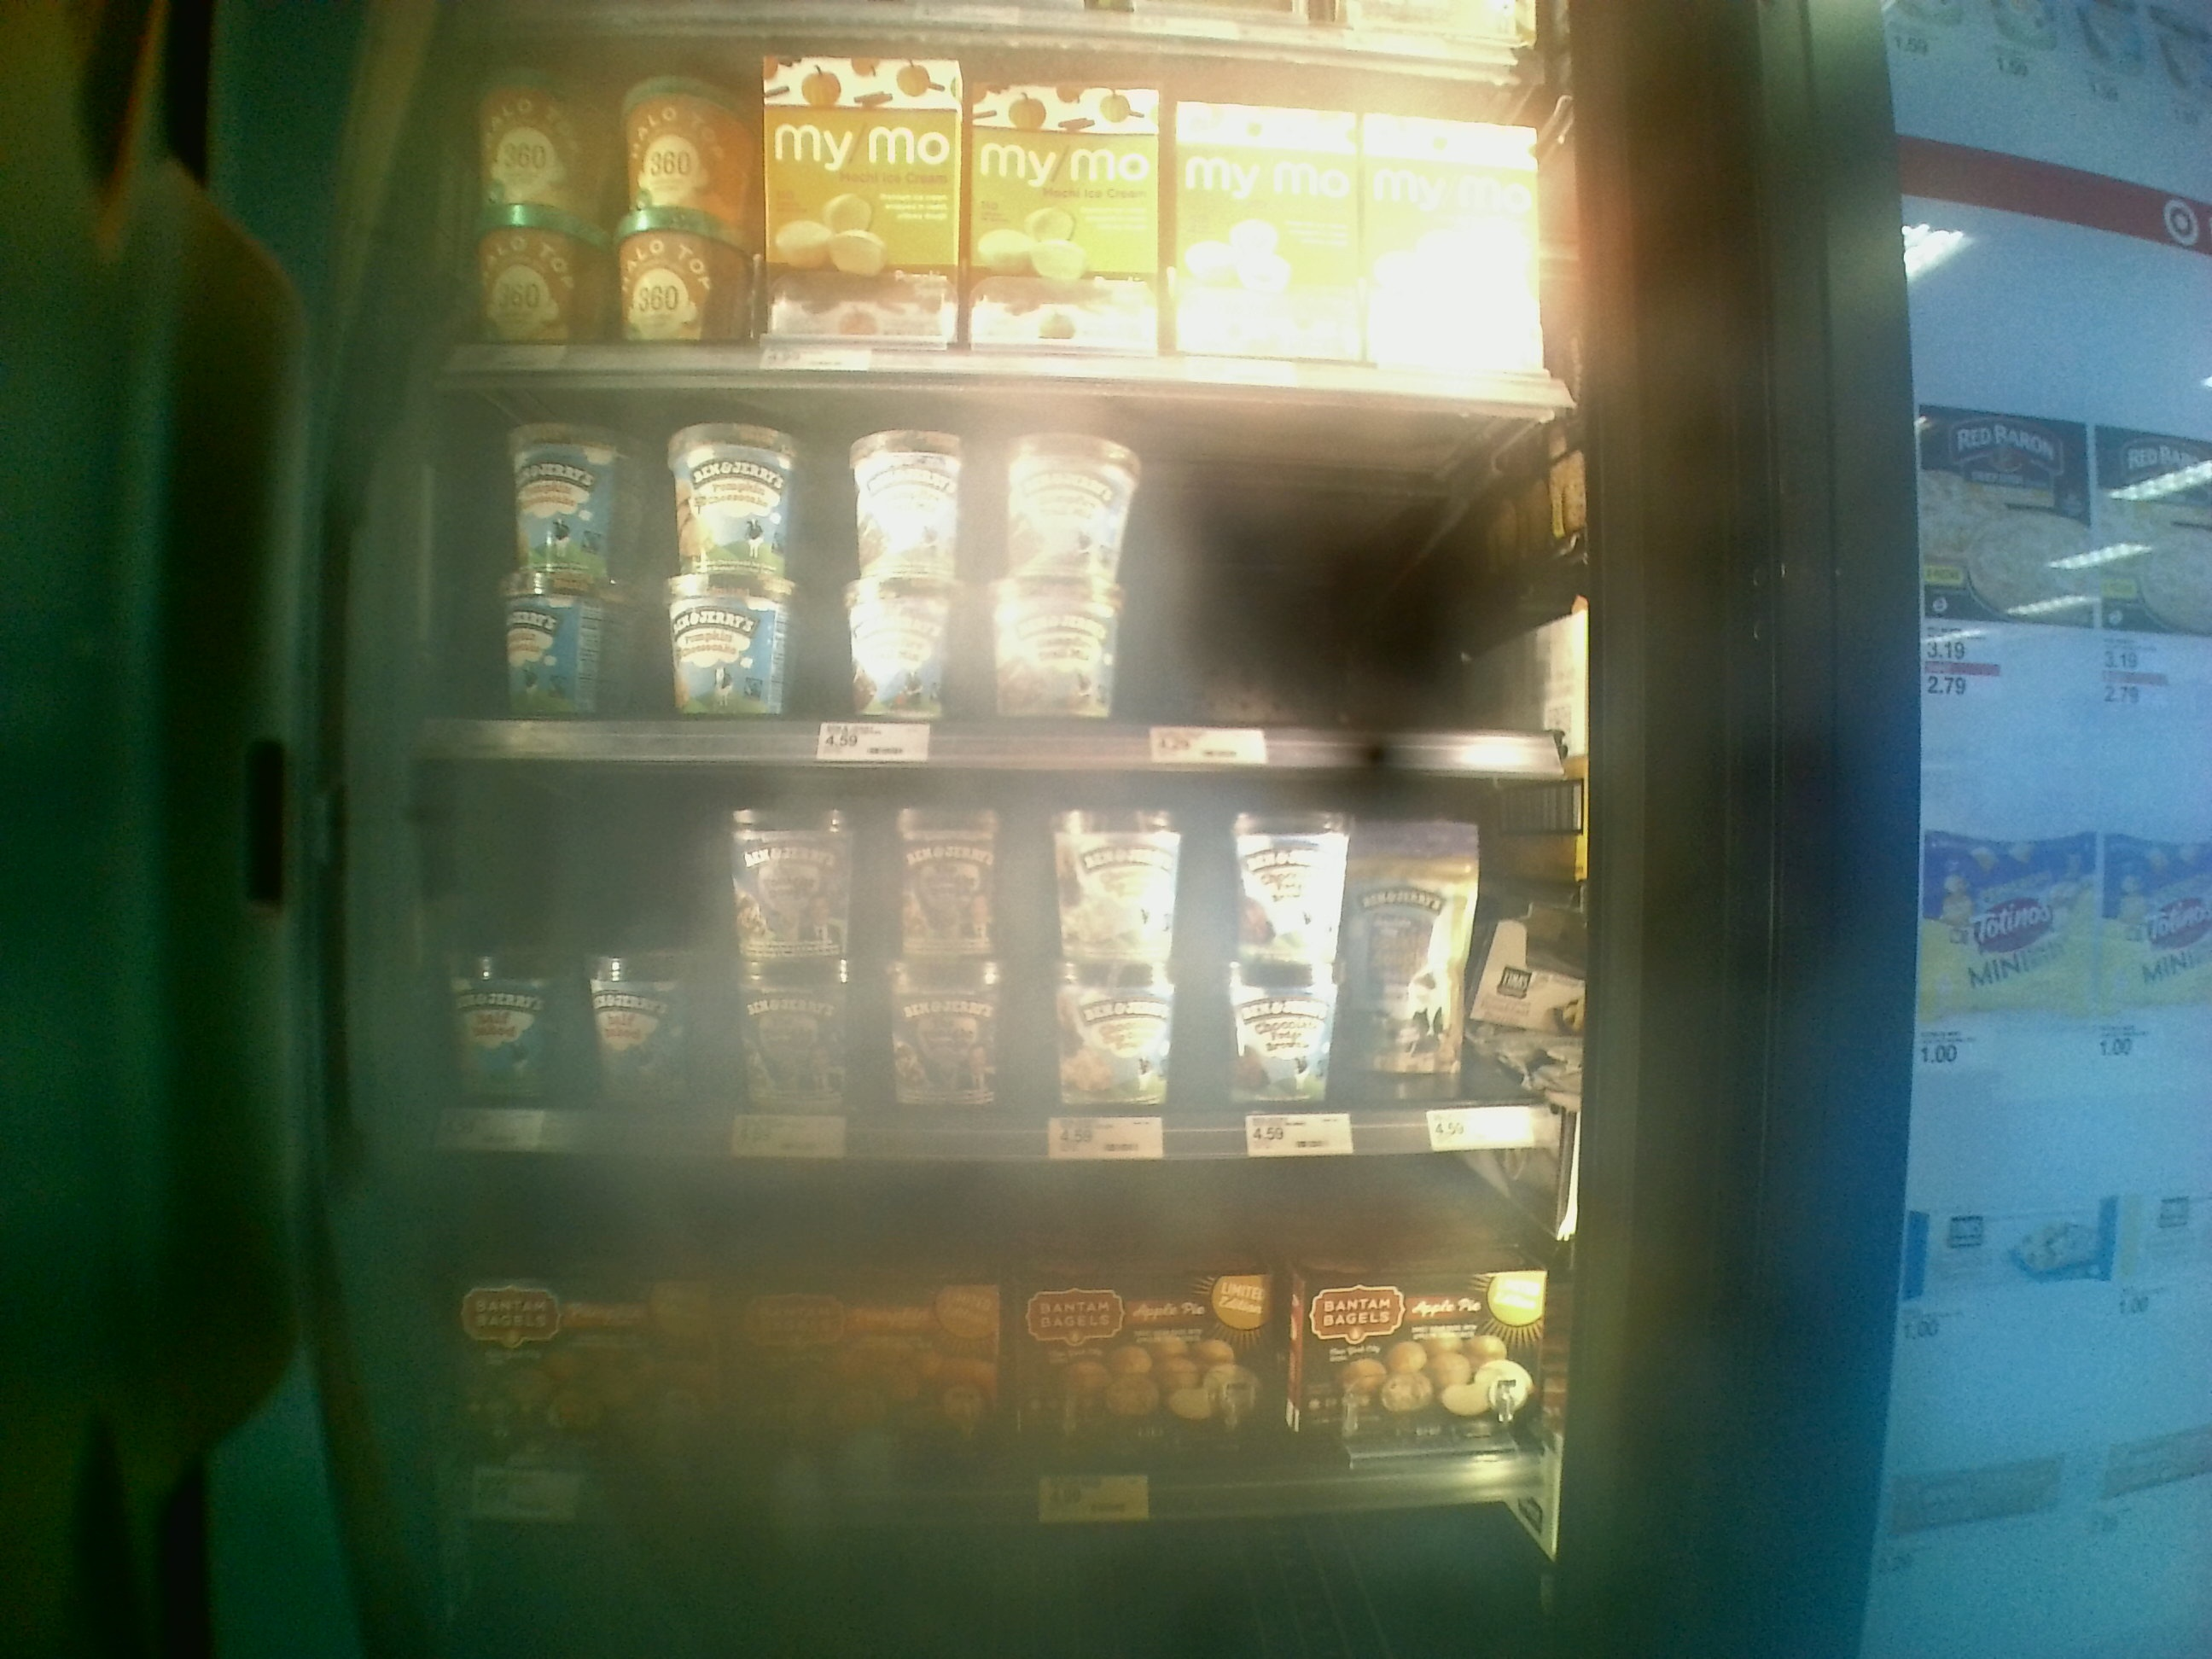shelf: (388, 347, 1564, 760), (387, 735, 1550, 1127), (413, 1127, 1548, 1502)
